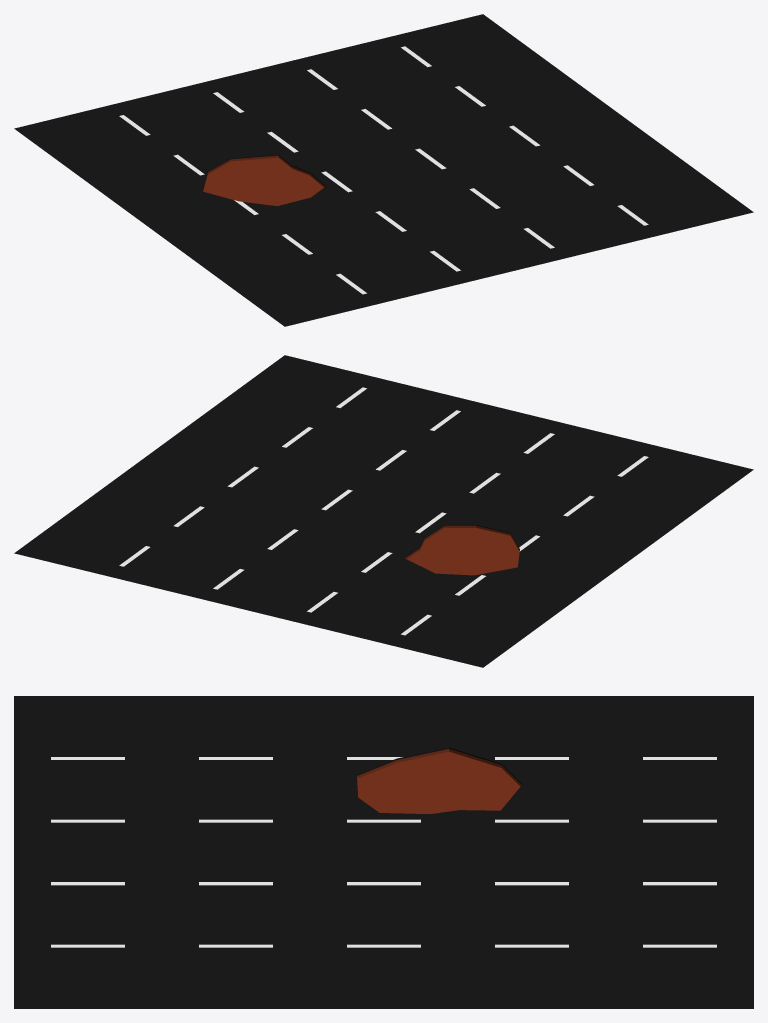
File: Road_5_Lane_Crack_A.fbx
3 renders of one model, top to bottom at view 1: azimuth 30°, elevation 25°; view 2: azimuth 150°, elevation 25°; view 3: azimuth 270°, elevation 25°, orthographic. The views are drawn at different scales.
Visible parts, largest first — view 1: Road_5_Lane_Crack_A; view 2: Road_5_Lane_Crack_A; view 3: Road_5_Lane_Crack_A.
Boxes of the visible parts, bbox=[...] form: Road_5_Lane_Crack_A: bbox=[14, 14, 753, 326]; Road_5_Lane_Crack_A: bbox=[14, 355, 753, 667]; Road_5_Lane_Crack_A: bbox=[14, 696, 753, 1008].
Size of the model in its own units: 500 by 3.29 by 500.
